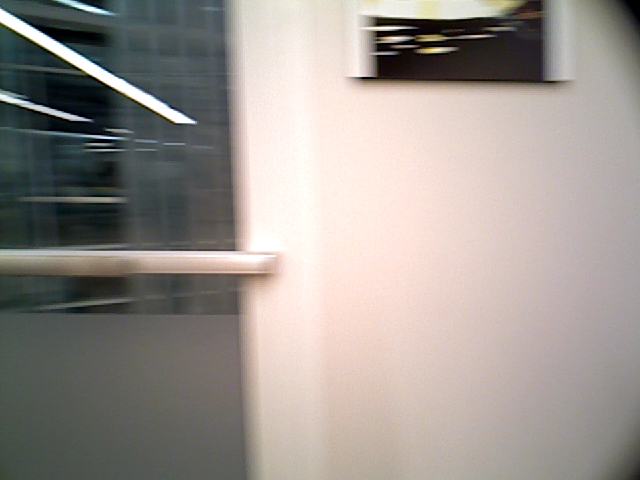painting3: (353, 1, 563, 80)
